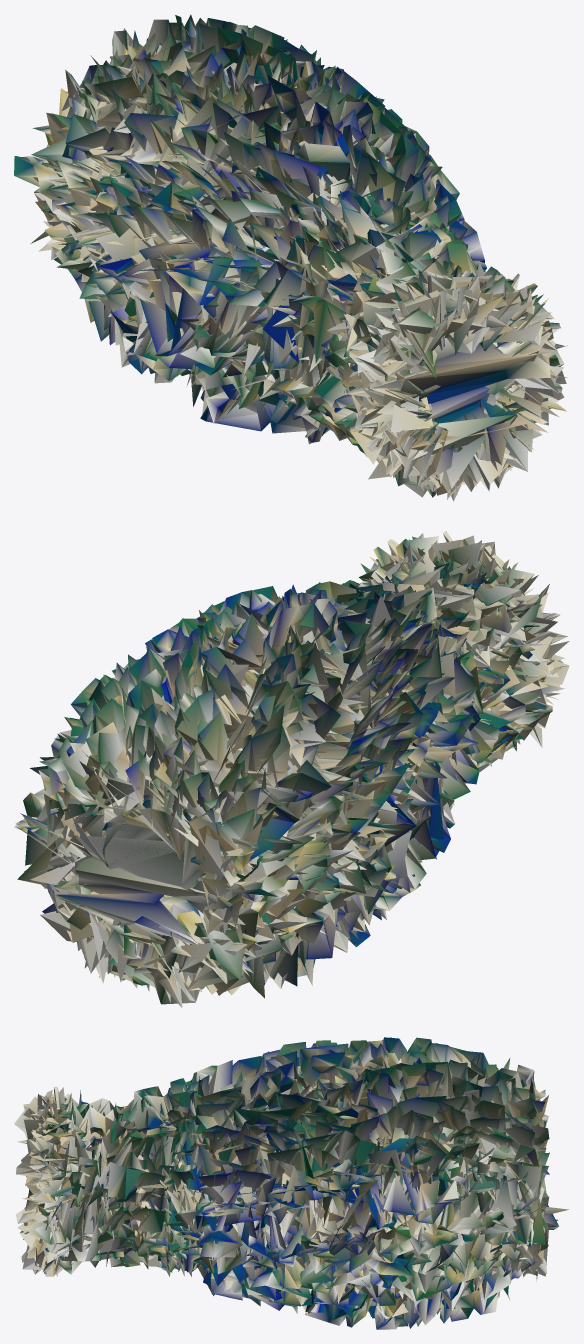
The model's file is lamp_shade_10_final400.obj.
3 renders of one model, top to bottom at view 1: azimuth 30°, elevation 25°; view 2: azimuth 150°, elevation 25°; view 3: azimuth 270°, elevation 25°, orthographic. The views are drawn at different scales.
Bounding box in the file's own units: 1.04 × 1.02 × 1.97.
